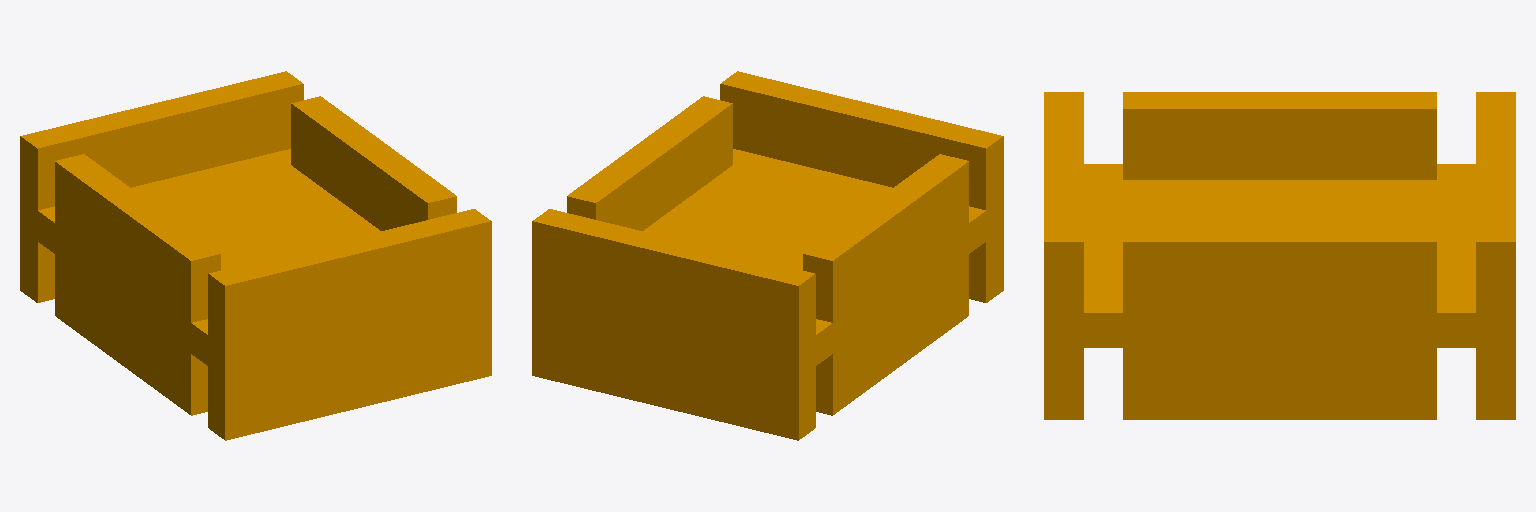
URDF robot description (drakeGraspableObject):
<?xml version="1.0"?>
<robot name="drakeGraspableObject">
	<link name="drakeGraspableObject">
		<inertial>
			<!--origin xyz="0 0 0" rpy="0 0 0" /-->
			<mass value="0.5" />
			<!--inertia ixx="0.000360" ixy="0" ixz="0" iyy="0.0000615" iyz="0" izz="0.00036" /-->
		</inertial>
    		<visual>
	      		<!--origin rpy="0 0 0" xyz="0 0 0"/-->
      			<geometry>
        			<mesh filename="drakeGraspableObject.obj"/>
      			</geometry>
         	</visual>
    		<collision>
      			<!--origin rpy="0 0 0" xyz="0 0 0"/-->
      			<geometry>
        			<mesh filename="drakeGraspableObject.obj"/>
      			</geometry>
    		</collision>
	</link>
</robot>

--- Facts derived from the render (not from the file) ---
3 views of the same robot in one strip: view 1: azimuth 30°, elevation 25°; view 2: azimuth 150°, elevation 25°; view 3: azimuth 270°, elevation 25° (orthographic).
Model drakeGraspableObject with 1 links and 0 joints (none), rooted at drakeGraspableObject, posed all joints at 0.
Links seen in each view (by area): view 1: drakeGraspableObject; view 2: drakeGraspableObject; view 3: drakeGraspableObject.
Boxes of the visible links, x1=… form: drakeGraspableObject: x1=20, y1=71, x2=491, y2=440; drakeGraspableObject: x1=532, y1=71, x2=1003, y2=440; drakeGraspableObject: x1=1044, y1=92, x2=1515, y2=419.
Bounding box of the posed robot: 0.09 × 0.12 × 0.05 m (x, y, z).
Meshes: 1 distinct files referenced, 1 mesh visuals loaded (1 OBJ).
